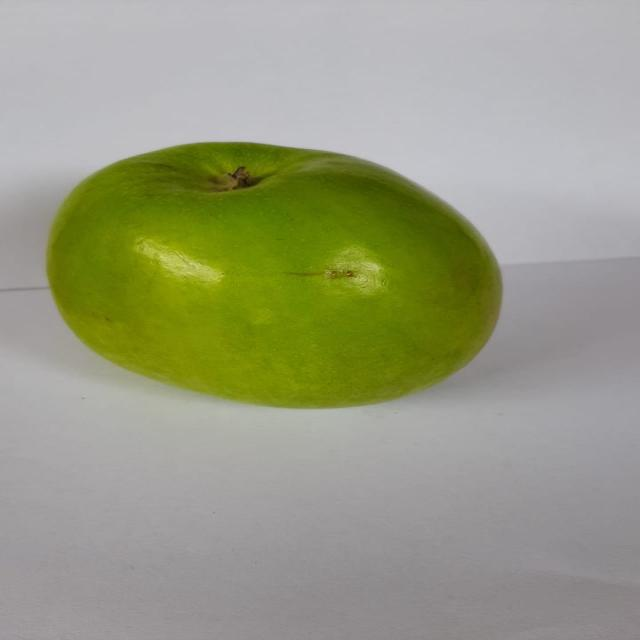50-_ripeness: (40, 138, 518, 416)
